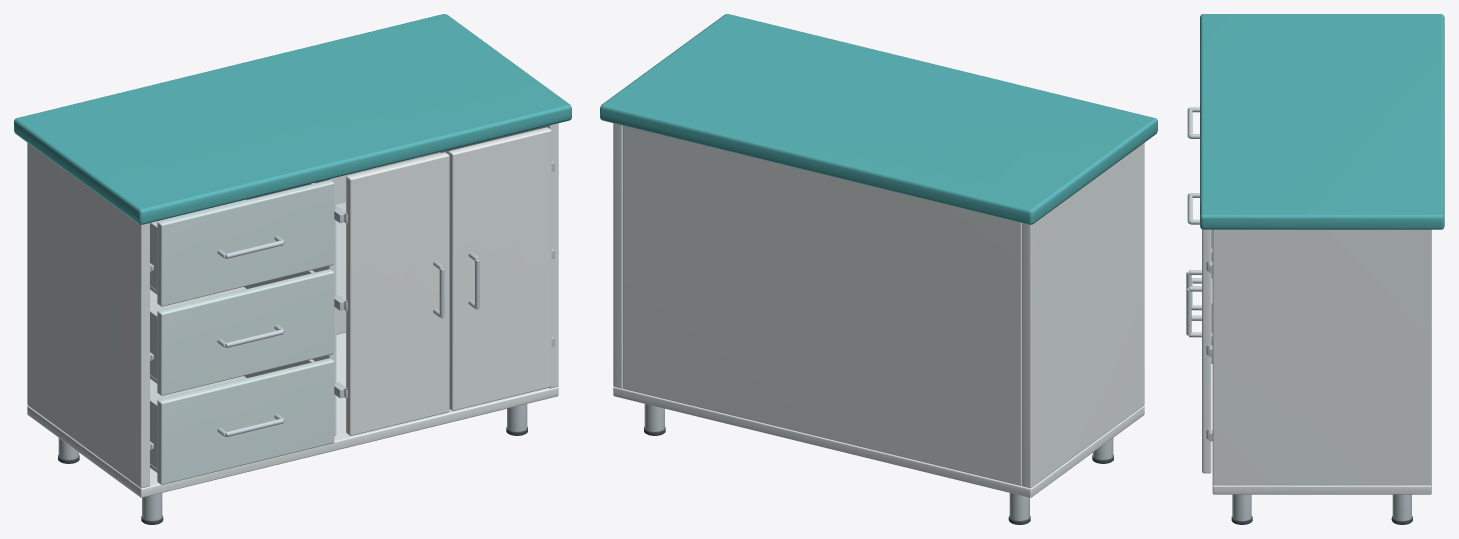
File: medical_cabinet.glb
The picture shows the model from 3 angles, left to right: view 1: azimuth 30°, elevation 25°; view 2: azimuth 150°, elevation 25°; view 3: azimuth 270°, elevation 25°; orthographic projection. The views are drawn at different scales.
Visible parts, largest first — view 1: Countertop_Mesh, Body_Left, Door_Left_Panel, Door_Right_Panel, Drawer_02_Front, Drawer_03_Front, Drawer_01_Front, Body_Bottom, Body_Right, Body_Divider, Shelf_Mesh, Body_Back; view 2: Body_Back, Countertop_Mesh, Body_Left, Body_Bottom, Body_Right; view 3: Body_Right, Countertop_Mesh, Door_Right_Panel, Body_Bottom, Foot_02, Foot_04.
Part boxes in pixels (x1,y1,x2,y2): Countertop_Mesh: [14, 14, 571, 224]; Body_Left: [27, 143, 149, 488]; Door_Left_Panel: [346, 152, 449, 435]; Door_Right_Panel: [448, 127, 551, 410]; Drawer_02_Front: [157, 269, 334, 395]; Drawer_03_Front: [157, 180, 334, 306]; Drawer_01_Front: [157, 358, 334, 484]; Body_Bottom: [27, 332, 558, 497]; Body_Right: [440, 123, 558, 388]; Body_Divider: [312, 177, 336, 435]; Shelf_Mesh: [336, 202, 345, 299]; Body_Back: [336, 152, 440, 334]; Body_Back: [623, 125, 1021, 485]; Countertop_Mesh: [600, 14, 1157, 224]; Body_Left: [1022, 143, 1144, 488]; Body_Bottom: [613, 387, 1144, 497]; Body_Right: [613, 123, 622, 388]; Body_Right: [1212, 229, 1431, 485]; Countertop_Mesh: [1200, 14, 1444, 229]; Door_Right_Panel: [1202, 229, 1211, 473]; Body_Bottom: [1212, 484, 1431, 494]; Foot_02: [1392, 494, 1411, 520]; Foot_04: [1232, 494, 1251, 520].
Bounding box in the file's own units: 1.14 × 0.84 × 0.612.
